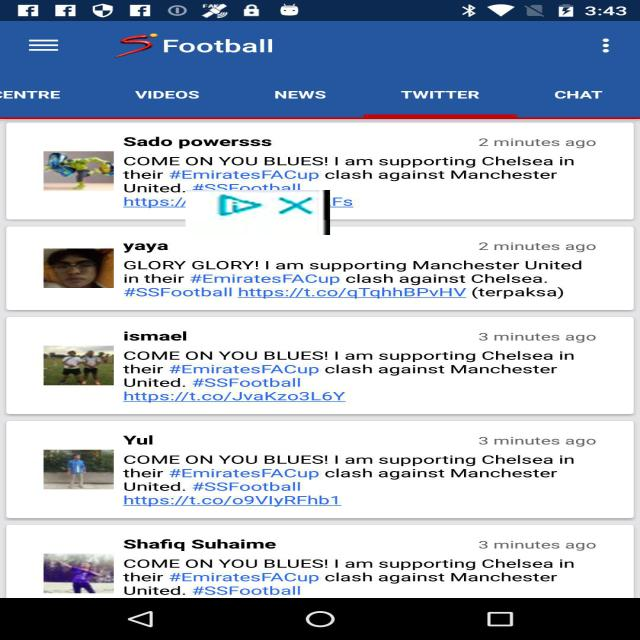sneaking: (186, 190, 330, 235)
